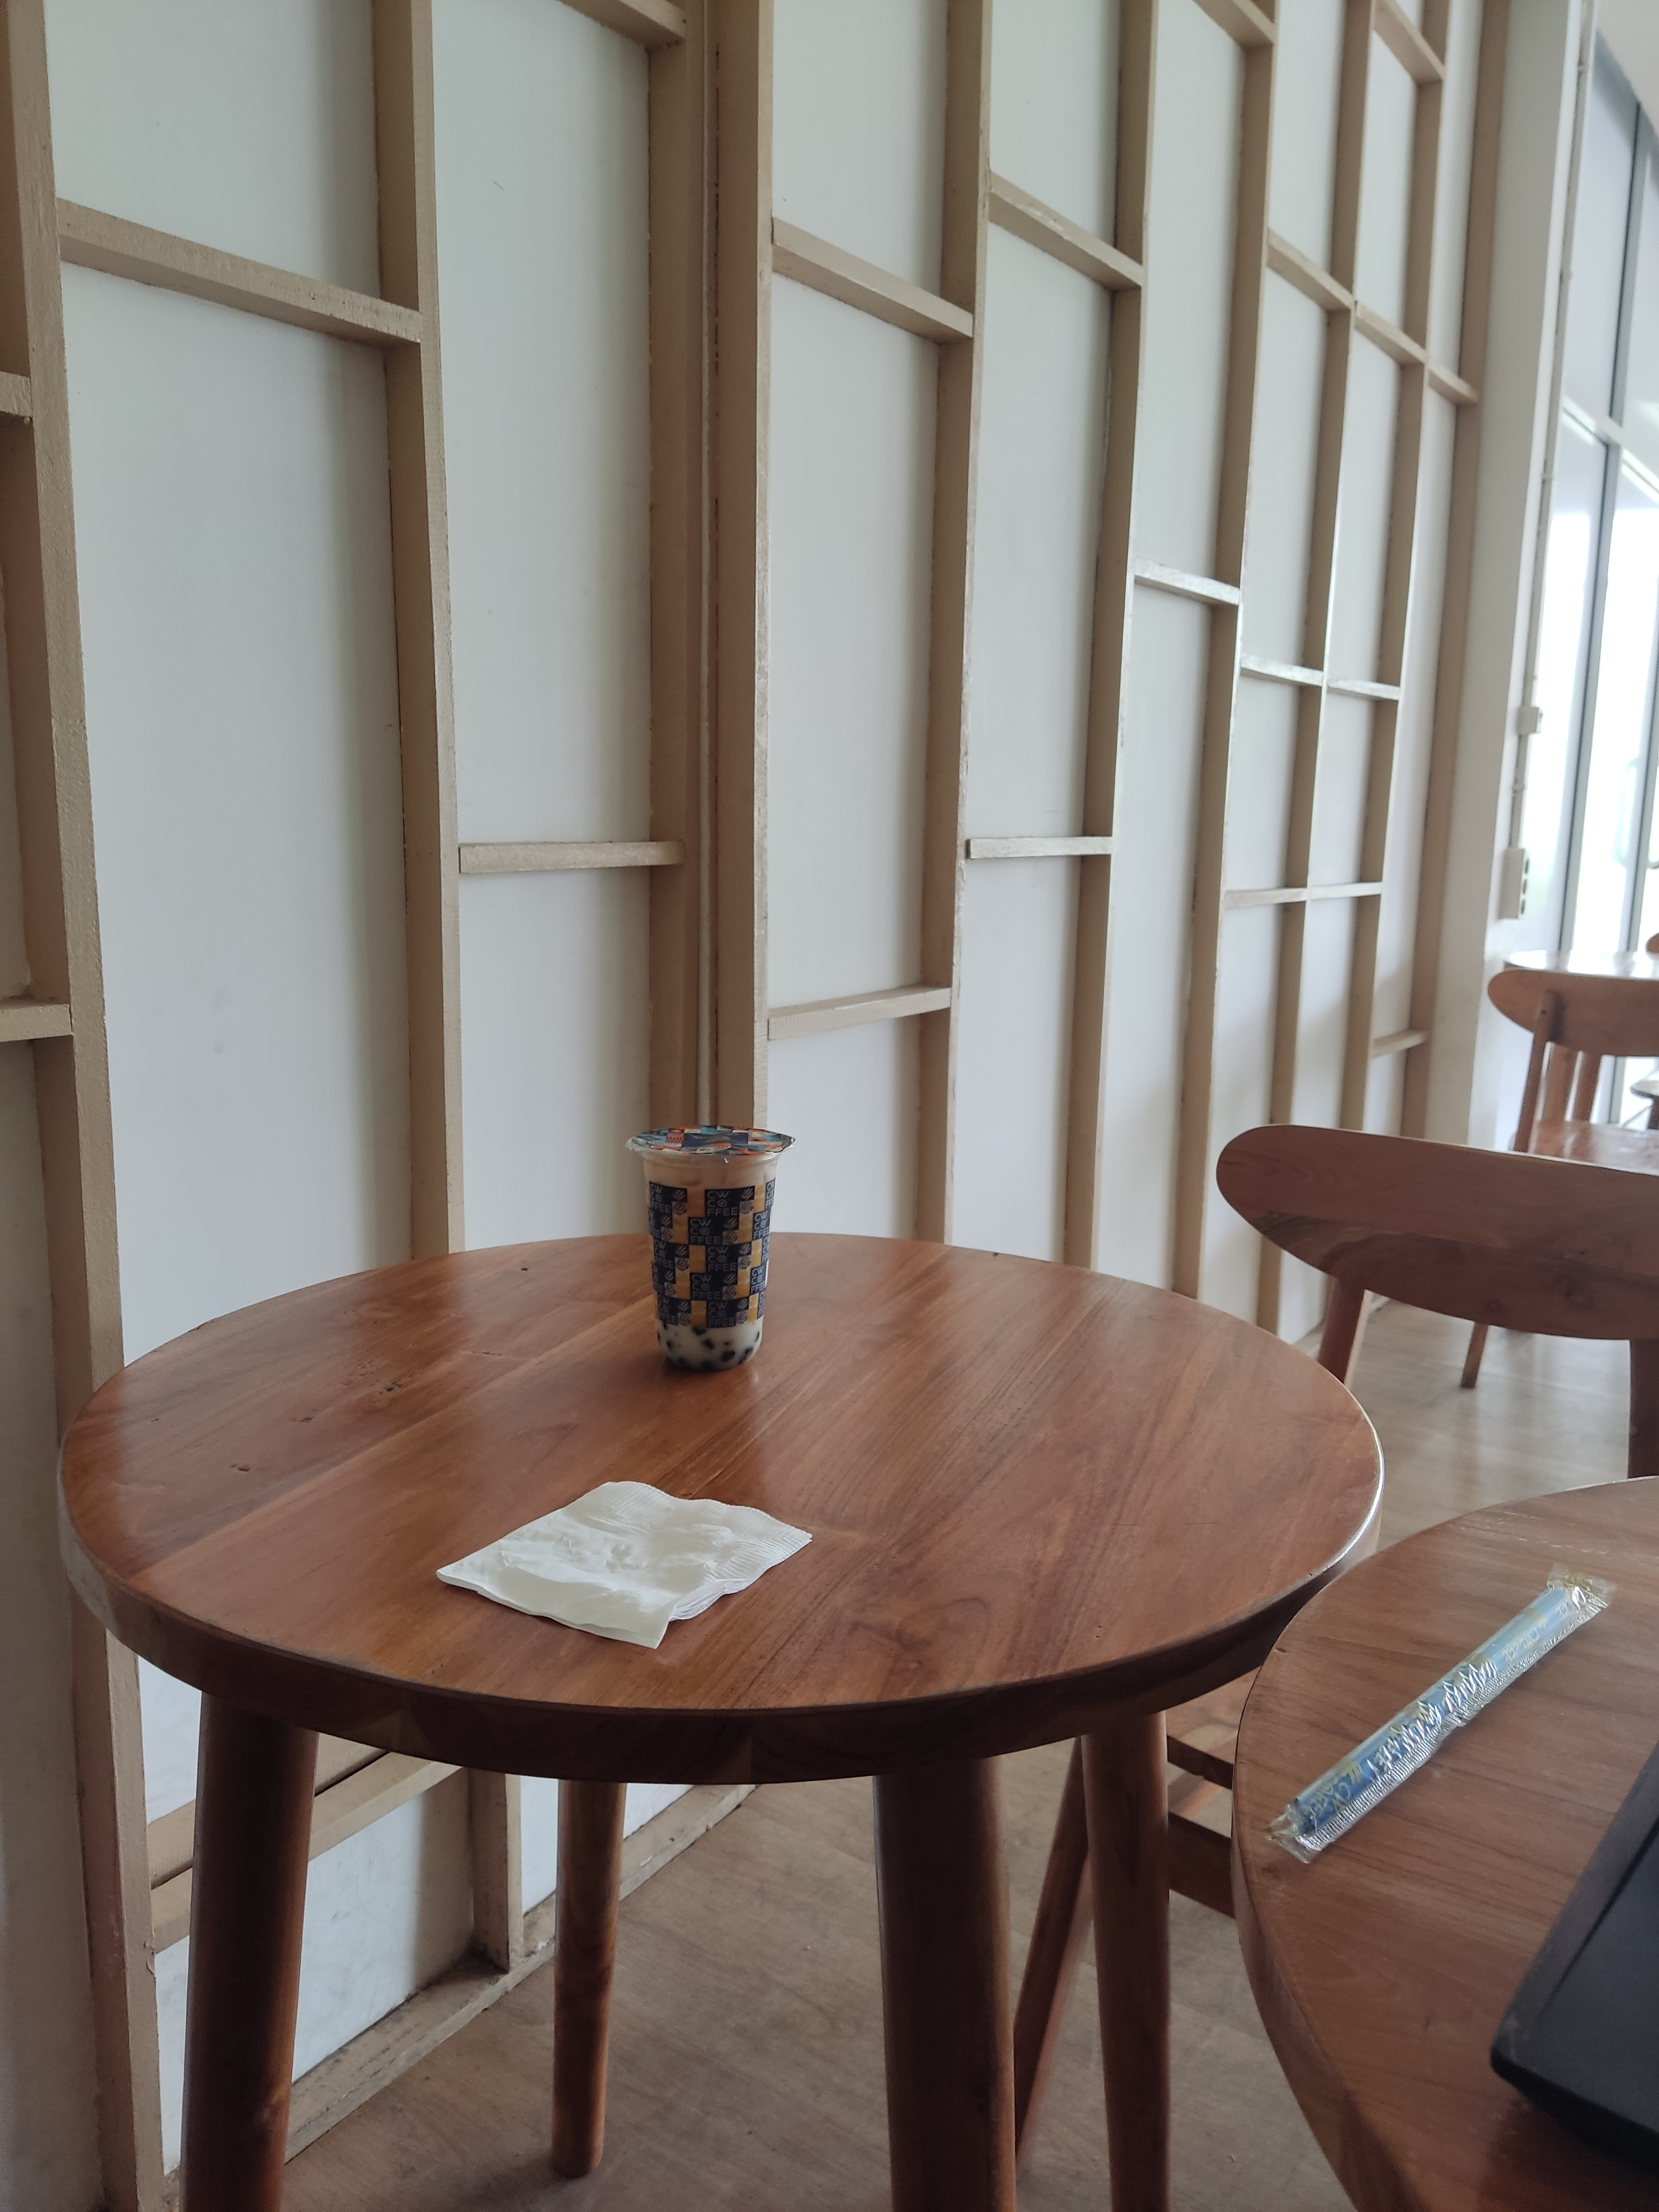Gelas CW: (620, 1125, 798, 1366)
